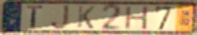2: (100, 3, 122, 33)
7: (154, 5, 173, 31)
H: (124, 5, 150, 30)
J: (50, 4, 71, 30)
K: (76, 5, 96, 30)
T: (26, 5, 45, 29)
